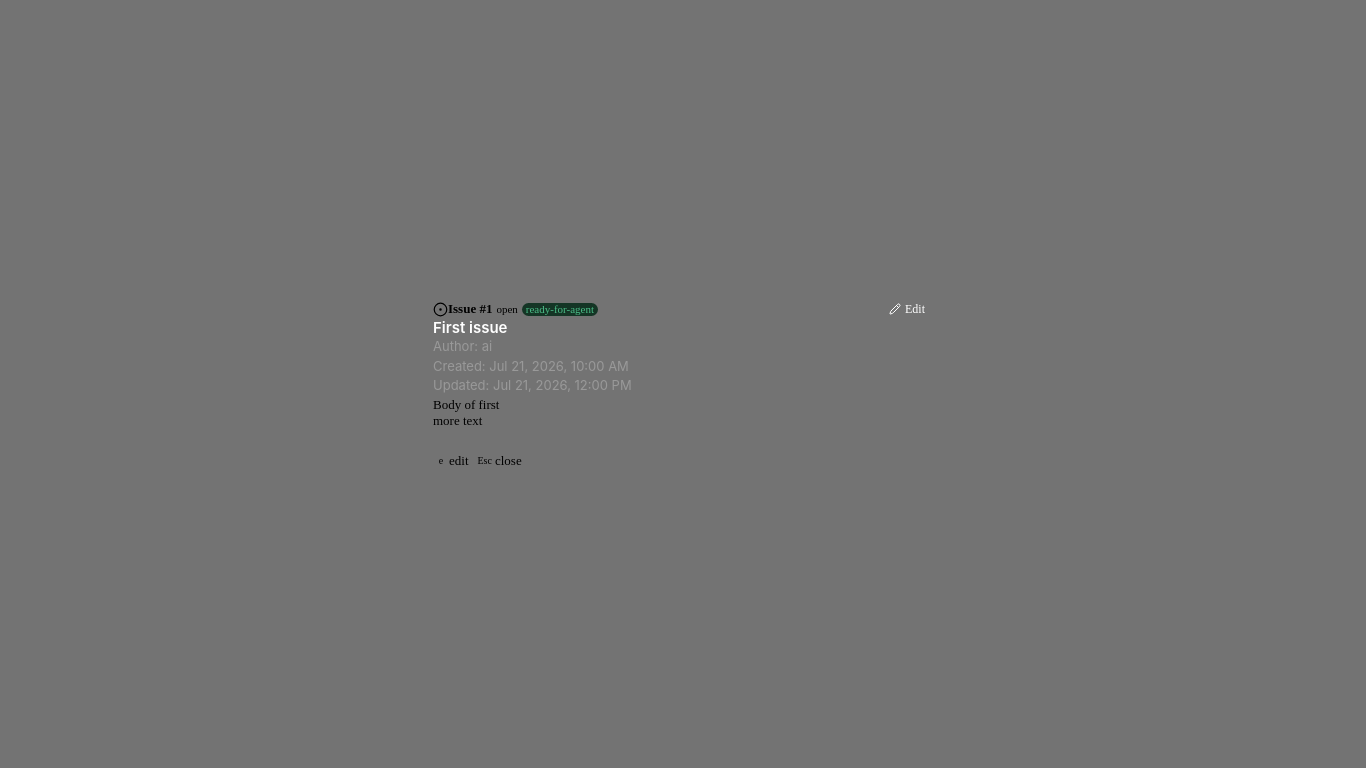
it: IssueModal read/edit mode › Done button saves and returns to read mode (no close)
Expected: the text "Issue #1" is shown, [448,301,492,317]
Note: Enter edit mode
Type keys "e"
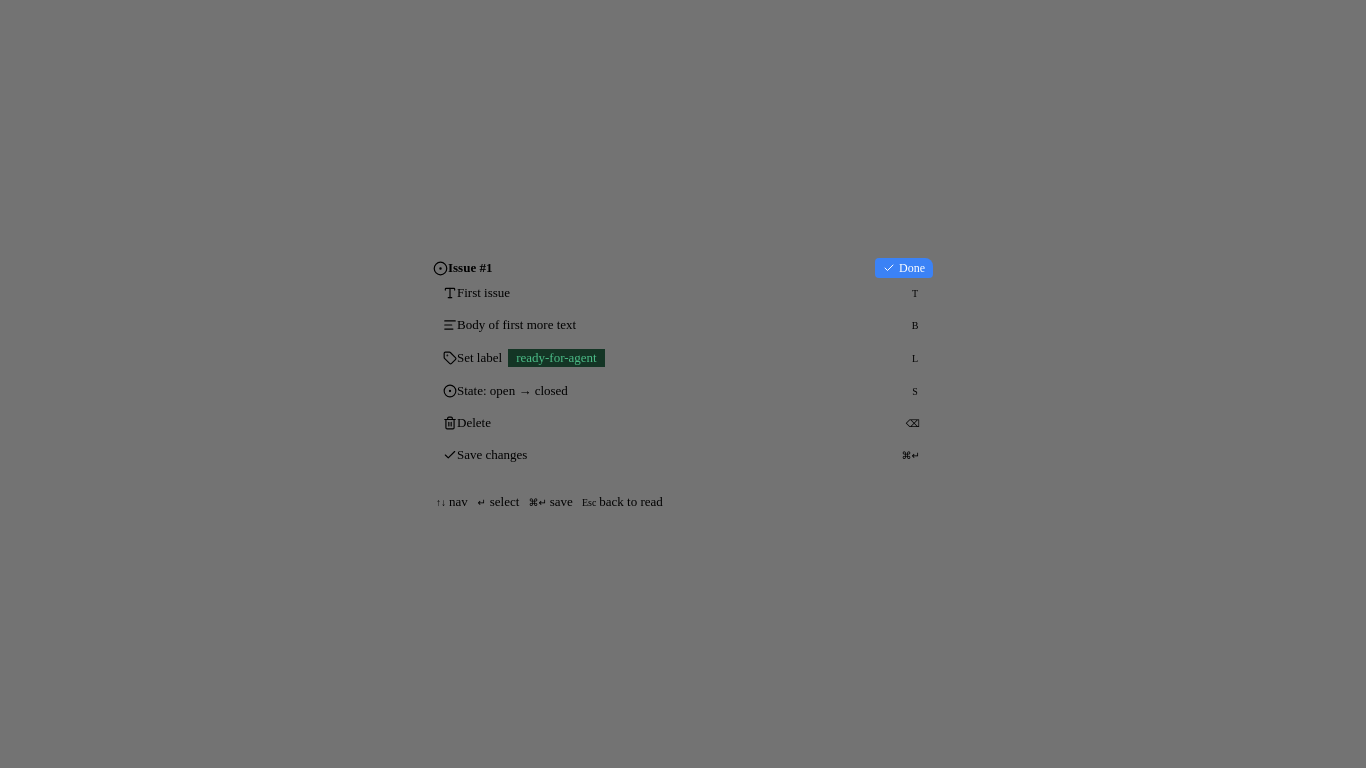
Result: the text "Done" is shown at [883,262,925,274]
Note: Click Done button
Click the button "Done".
click(904, 268)  # box [875,258,933,278]
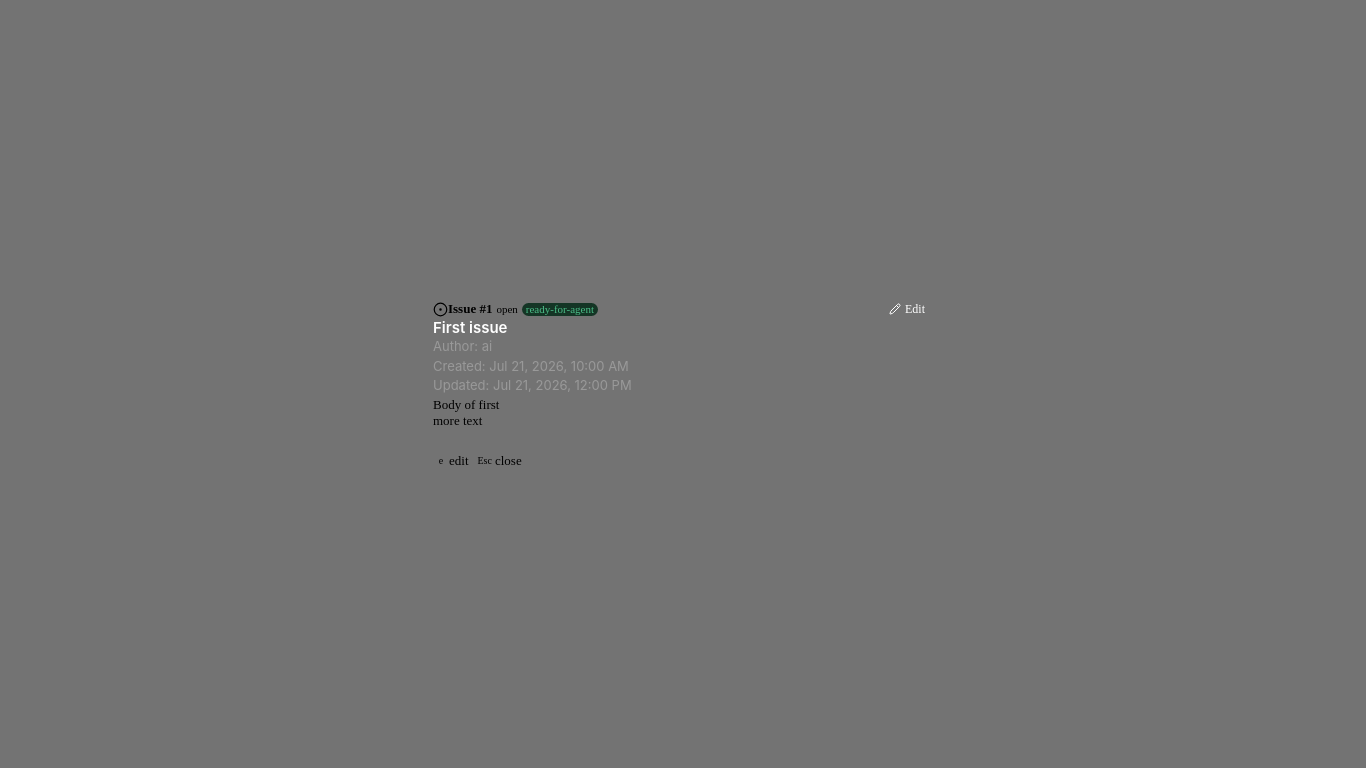
Expected: the text "Issue #1" is shown, [448,301,492,317]
Result: the text "Edit" is shown at [889,303,925,315]
